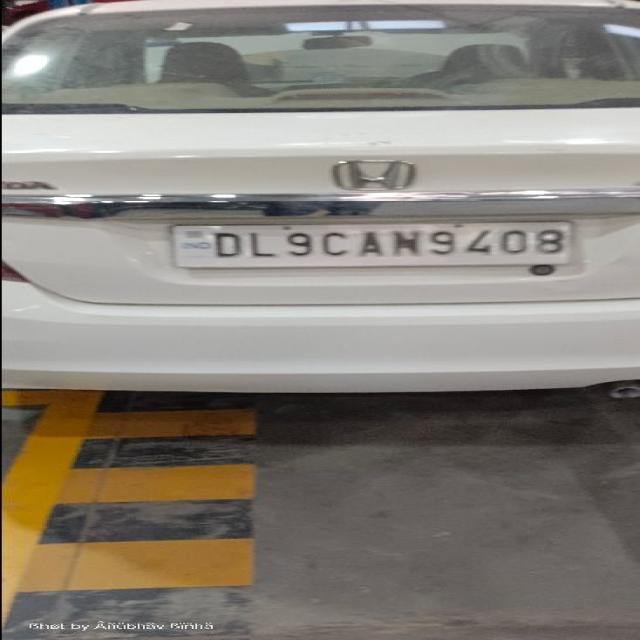license_plate: (168, 219, 576, 269)
